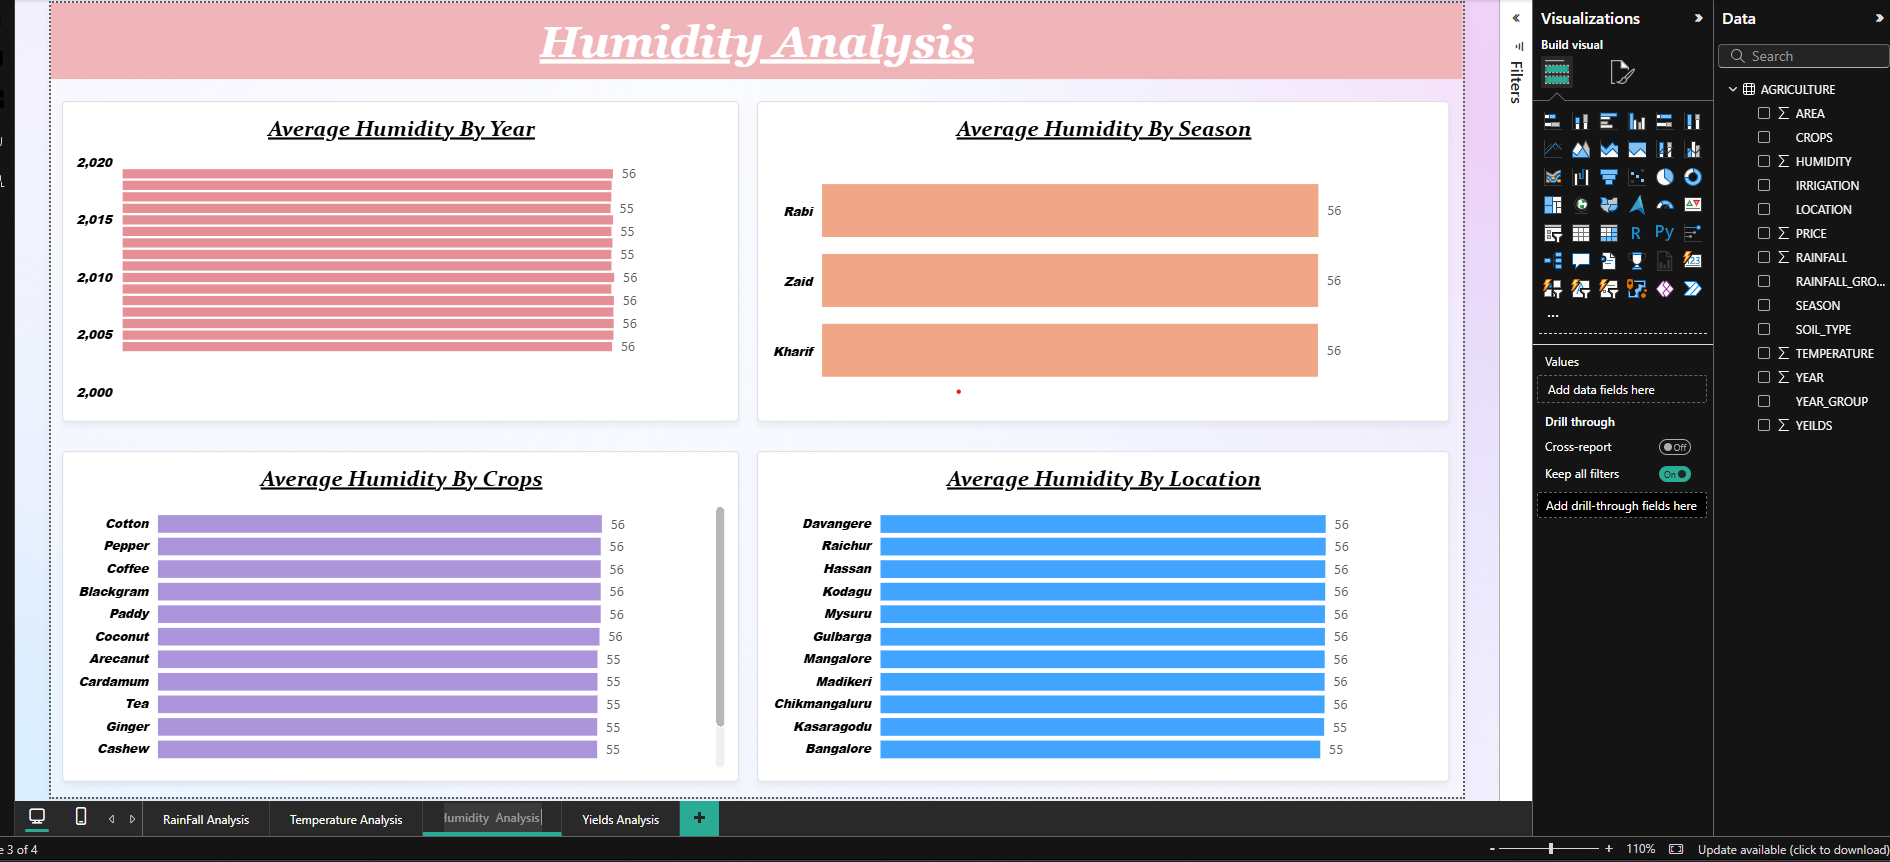

What the dashboard file says about the page in this screenshot:
{"tool":"powerbi","page":{"name":"Humidity  Analysis ","canvas":[1280,720],"ordinal":2},"visuals":[{"type":"shape","box":[0,0,1280,69.1],"z":0},{"type":"barChart","title":"Average Humidity  By Year","fields":{"Category":["AGRICULTURE.YEAR"],"Y":["Avg(AGRICULTURE.HUMIDITY)"]},"box":[10,88.9,613.9,291.1],"z":1000},{"type":"barChart","title":"Average Humidity  By Season","fields":{"Category":["AGRICULTURE.SEASON"],"Y":["Avg(AGRICULTURE.HUMIDITY)"]},"box":[640.2,88.9,627.5,291.1],"z":2000},{"type":"barChart","title":"Average Humidity  By Crops","fields":{"Category":["AGRICULTURE.CROPS"],"Y":["Avg(AGRICULTURE.HUMIDITY)"]},"box":[10,406.2,613.9,300.2],"z":3000},{"type":"barChart","title":"Average Humidity  By Location","fields":{"Category":["AGRICULTURE.LOCATION"],"Y":["Avg(AGRICULTURE.HUMIDITY)"]},"box":[640.2,406.2,627.5,300.2],"z":4000}]}

Visuals, with their boxes on the page's 1280x720 design canvas (x1, y1, x2, y2). These are canvas units, not pixel positions in the 1890x862 screenshot, which may show the page scaled, cropped or inside an application window:
shape: locate(0, 0, 1280, 69)
"Average Humidity  By Year" barChart: locate(10, 89, 624, 380)
"Average Humidity  By Season" barChart: locate(640, 89, 1268, 380)
"Average Humidity  By Crops" barChart: locate(10, 406, 624, 706)
"Average Humidity  By Location" barChart: locate(640, 406, 1268, 706)
